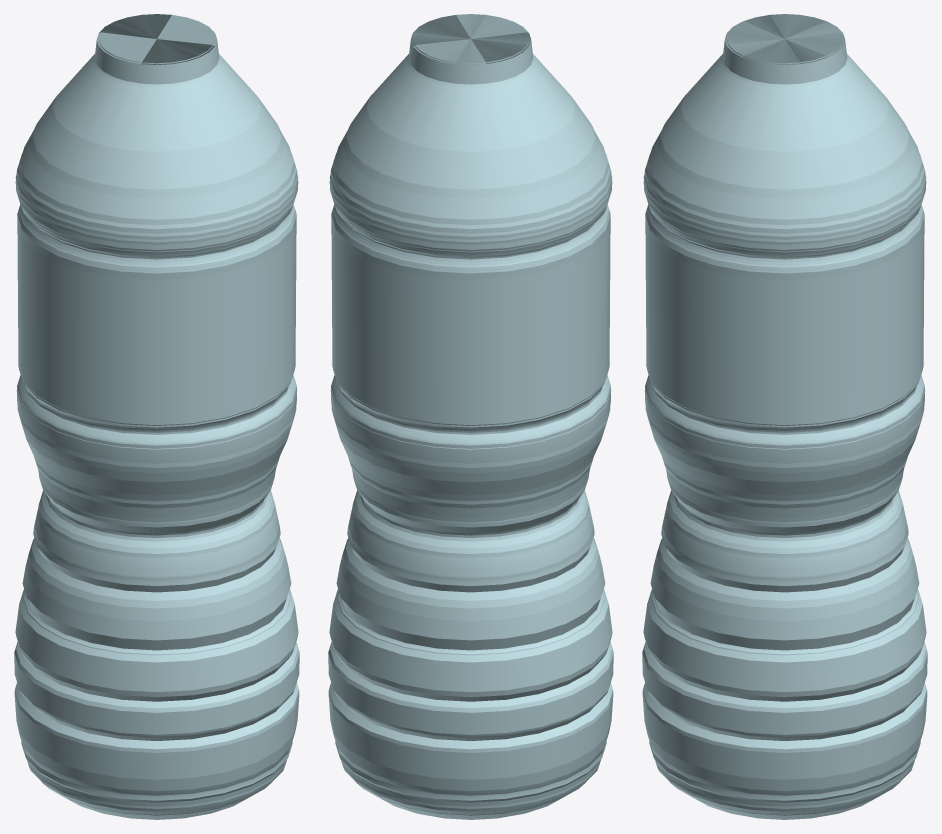
Rendered from SimpleBody.fbx.
The picture shows the model from 3 angles, left to right: view 1: azimuth 30°, elevation 25°; view 2: azimuth 150°, elevation 25°; view 3: azimuth 270°, elevation 25°; orthographic projection.
Parts seen in each view (by area): view 1: Lathe; view 2: Lathe; view 3: Lathe.
Part boxes in pixels (x1=…): Lathe: x1=14, y1=14, x2=299, y2=819; Lathe: x1=328, y1=14, x2=613, y2=819; Lathe: x1=642, y1=14, x2=927, y2=819.
Size of the model in its own units: 158 by 457 by 158.
